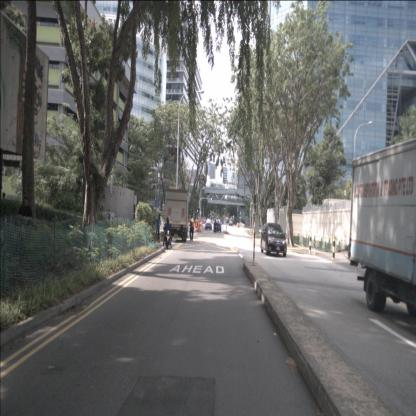human-pedestrian-adult: (18, 195, 33, 251), (151, 213, 161, 242), (189, 214, 194, 242), (107, 209, 112, 232)
vehicle-car: (261, 223, 287, 256), (214, 219, 221, 232), (205, 219, 212, 230), (229, 218, 233, 226)
vehicle-motorcycle: (162, 217, 172, 249), (214, 219, 218, 234), (216, 220, 220, 233)
vehicle-truck: (348, 138, 416, 333), (166, 189, 189, 242)
